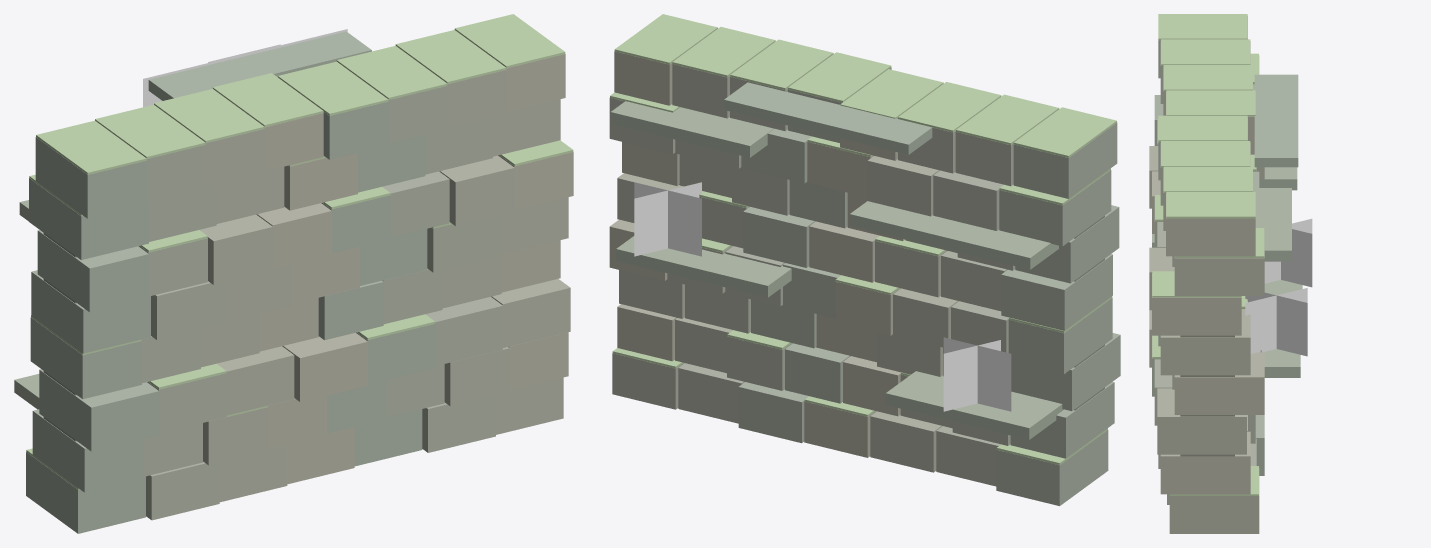
The model's file is waterfall-cliff.glb.
3 renders of one model, left to right at view 1: azimuth 30°, elevation 25°; view 2: azimuth 150°, elevation 25°; view 3: azimuth 270°, elevation 25°, orthographic. The views are drawn at different scales.
Parts seen in each view (by area): view 1: waterfall_stacked_block_cliff, waterfall_mossy_ledge_caps, waterfall_projecting_shadow_ledges, waterfall_scrolling_sheet_cards; view 2: waterfall_stacked_block_cliff, waterfall_mossy_ledge_caps, waterfall_projecting_shadow_ledges, waterfall_blossom_clump_right, waterfall_blossom_clump_left; view 3: waterfall_stacked_block_cliff, waterfall_mossy_ledge_caps, waterfall_projecting_shadow_ledges, waterfall_blossom_clump_right, waterfall_blossom_clump_left.
Boxes of the visible parts, <box> form: waterfall_stacked_block_cliff: <box>26,54,573,533</box>; waterfall_mossy_ledge_caps: <box>26,14,573,489</box>; waterfall_projecting_shadow_ledges: <box>14,31,371,409</box>; waterfall_scrolling_sheet_cards: <box>143,29,347,107</box>; waterfall_stacked_block_cliff: <box>609,51,1120,506</box>; waterfall_mossy_ledge_caps: <box>610,14,1116,464</box>; waterfall_projecting_shadow_ledges: <box>610,82,1063,439</box>; waterfall_blossom_clump_right: <box>634,182,701,256</box>; waterfall_blossom_clump_left: <box>943,337,1011,411</box>; waterfall_stacked_block_cliff: <box>1149,16,1264,533</box>; waterfall_mossy_ledge_caps: <box>1152,14,1264,495</box>; waterfall_projecting_shadow_ledges: <box>1253,74,1302,377</box>; waterfall_blossom_clump_right: <box>1245,288,1307,356</box>; waterfall_blossom_clump_left: <box>1264,218,1312,287</box>.
Bounding box in the file's own units: 21.94 × 16.05 × 12.21.
